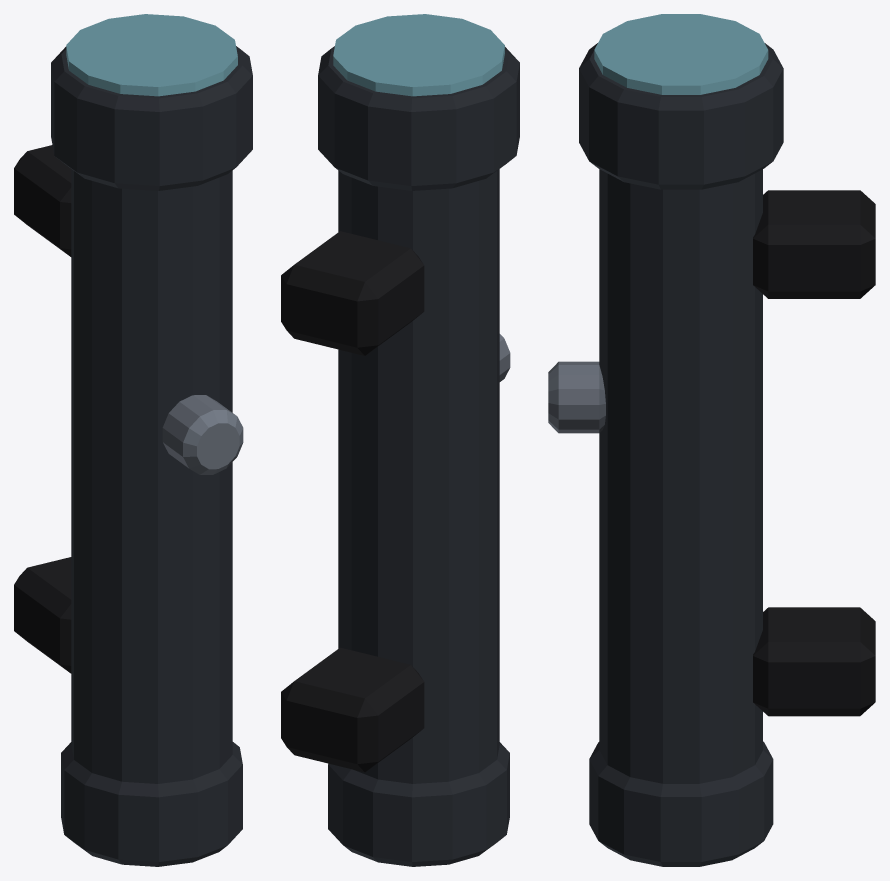
Rendered from sight_long.glb.
The picture shows the model from 3 angles, left to right: view 1: azimuth 30°, elevation 25°; view 2: azimuth 150°, elevation 25°; view 3: azimuth 270°, elevation 25°; orthographic projection.
Parts seen in each view (by area): view 1: sight_long; view 2: sight_long; view 3: sight_long.
Part boxes in pixels (x1=…): sight_long: x1=14, y1=14, x2=252, y2=866; sight_long: x1=281, y1=14, x2=519, y2=866; sight_long: x1=548, y1=14, x2=875, y2=866.
Size of the model in its own units: 0.039 by 0.169 by 0.064.
